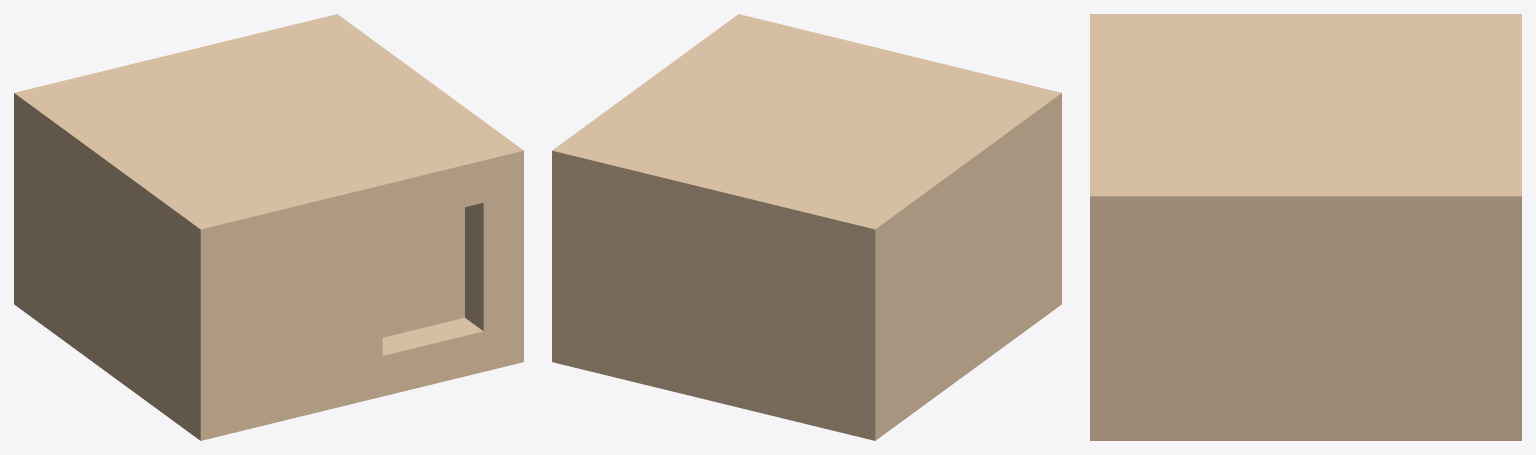
The model's file is building-window-right.obj.
The picture shows the model from 3 angles, left to right: view 1: azimuth 30°, elevation 25°; view 2: azimuth 150°, elevation 25°; view 3: azimuth 270°, elevation 25°; orthographic projection. The views are drawn at different scales.
Size of the model in its own units: 1 by 0.625 by 1.
